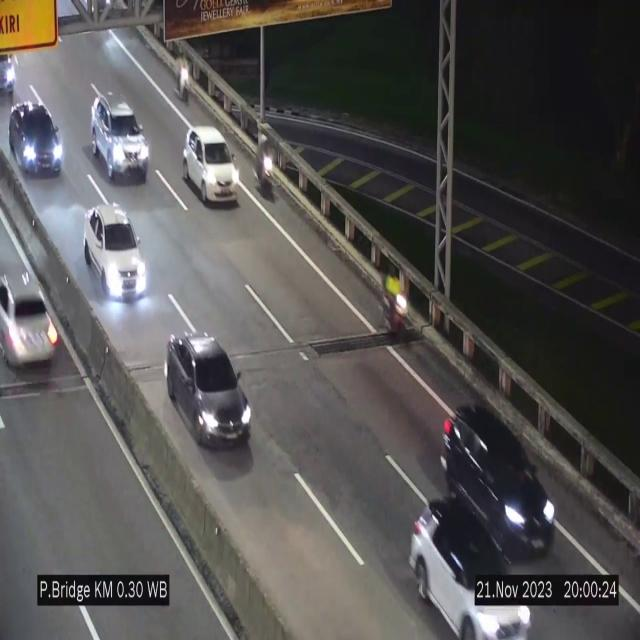Car: (444, 401, 556, 570), (410, 499, 532, 640), (166, 331, 251, 445), (0, 243, 66, 381), (86, 202, 150, 302), (91, 92, 150, 182), (8, 100, 66, 180), (182, 127, 240, 206), (0, 45, 24, 99)
Motorcycle: (382, 260, 408, 350), (254, 129, 275, 210), (172, 42, 195, 114)
